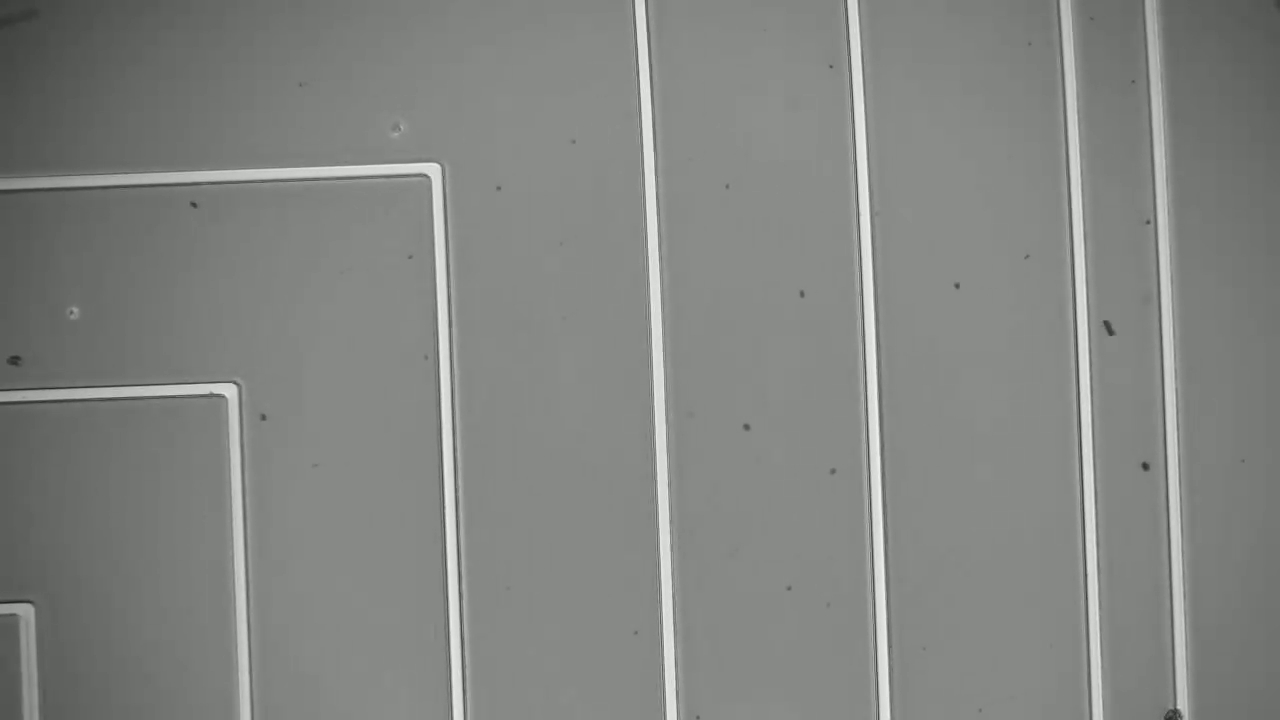stains_enbedded: (1158, 696, 1197, 720)
